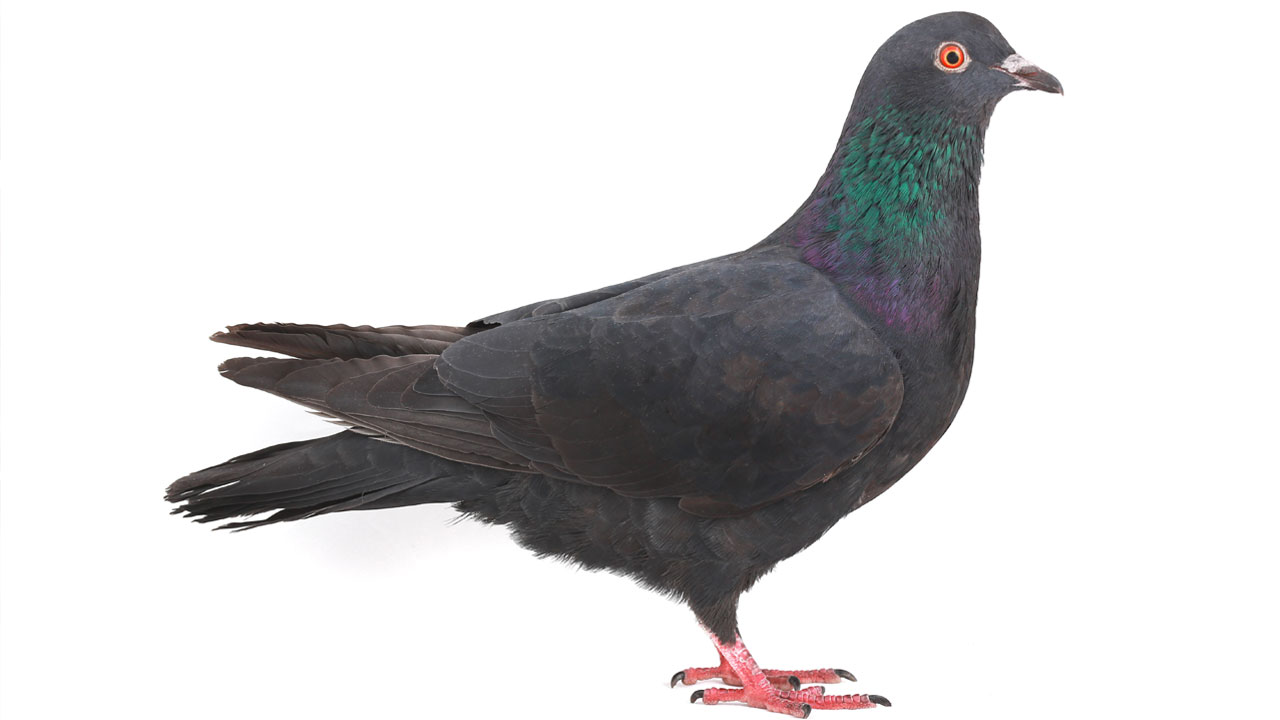pheasant: (140, 16, 1074, 716)
